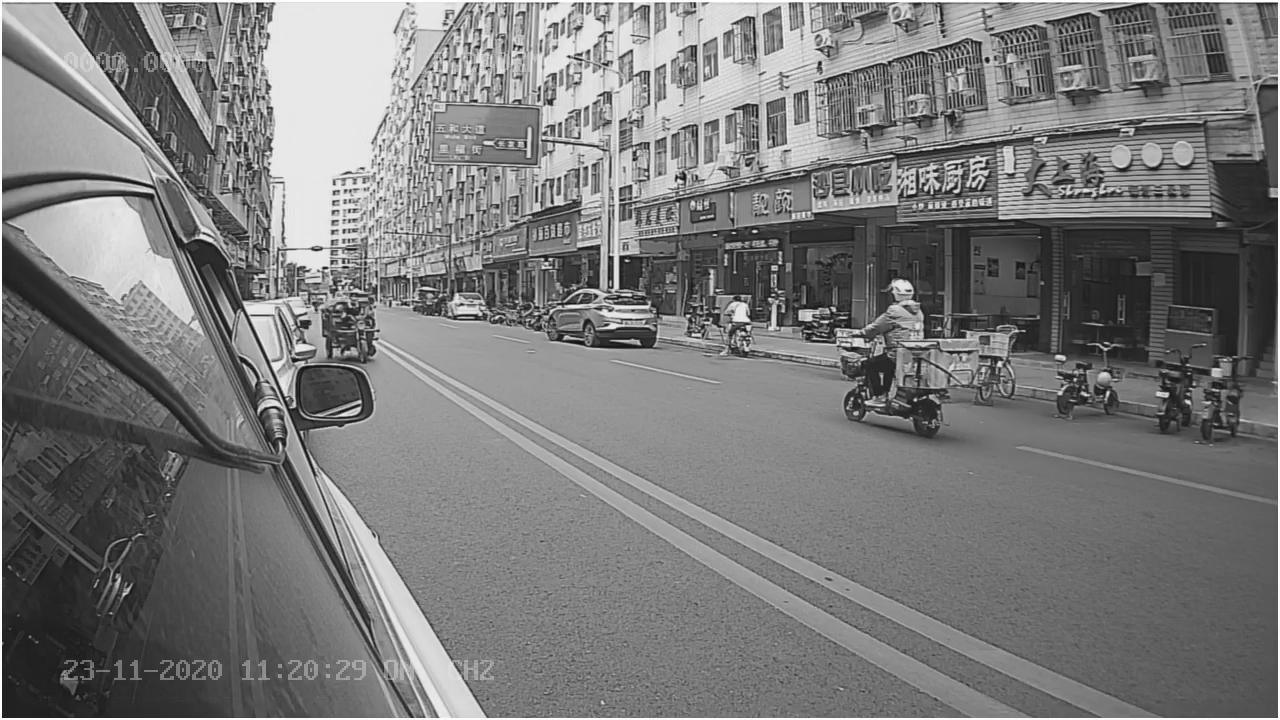person: (850, 280, 929, 338)
